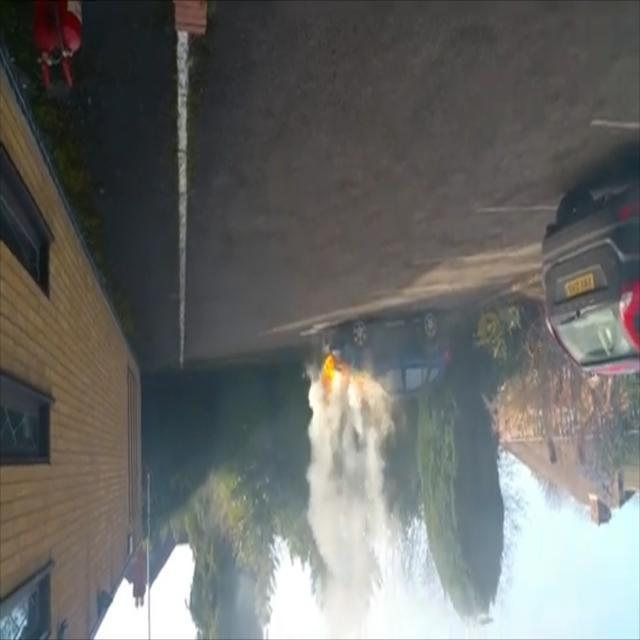fire: (318, 356, 377, 424)
